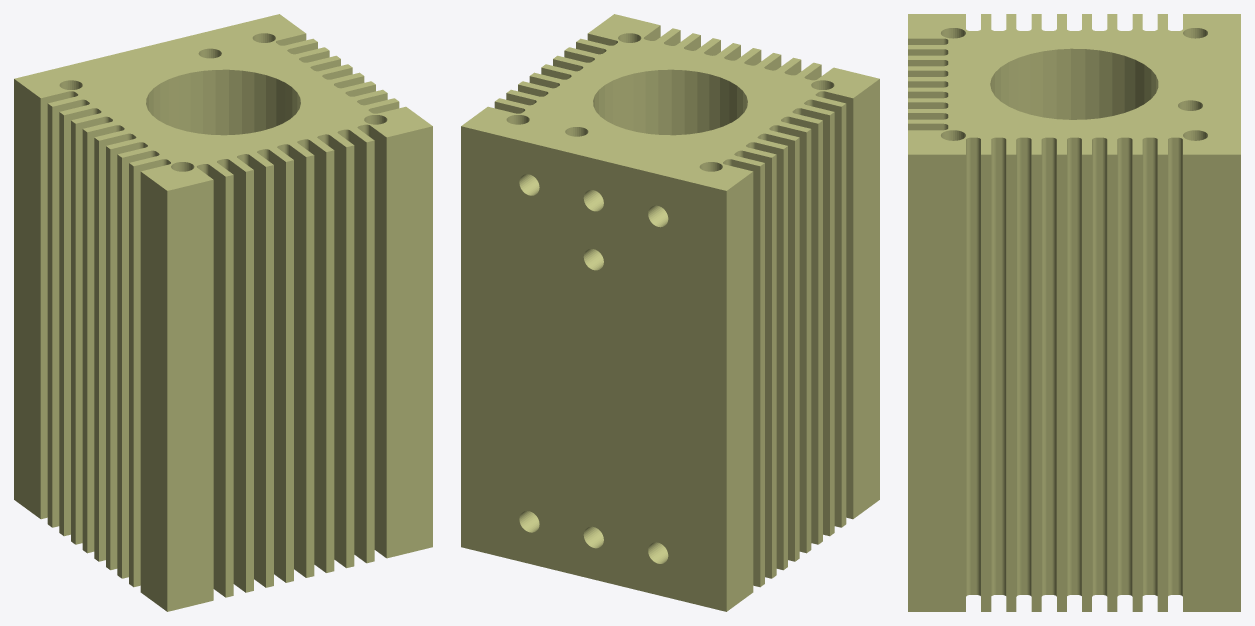
The model's file is case-04_lib00001.glb.
3 renders of one model, left to right at view 1: azimuth 30°, elevation 25°; view 2: azimuth 150°, elevation 25°; view 3: azimuth 270°, elevation 25°, orthographic. The views are drawn at different scales.
Visible parts, largest first — view 1: lib00001; view 2: lib00001; view 3: lib00001.
Boxes of the visible parts, x1,y1,x2,y2 form: lib00001: (14, 14, 432, 611); lib00001: (461, 14, 879, 611); lib00001: (908, 14, 1240, 611).
Size of the model in its own units: 33 by 50 by 33.
